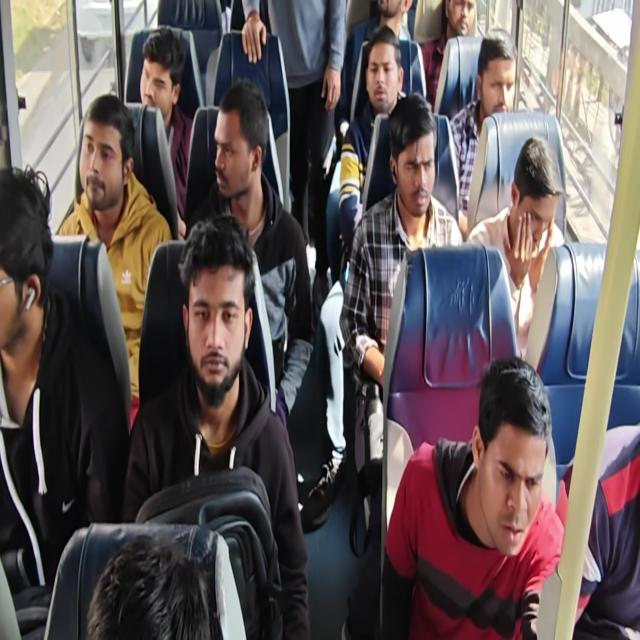person: (464, 353, 549, 559), (175, 211, 257, 413), (88, 539, 217, 639), (1, 162, 53, 368), (211, 74, 270, 204), (508, 133, 562, 267), (390, 95, 444, 219), (81, 96, 136, 214), (138, 21, 188, 118), (478, 20, 523, 124), (360, 27, 402, 114), (443, 0, 479, 40), (372, 1, 416, 25)
